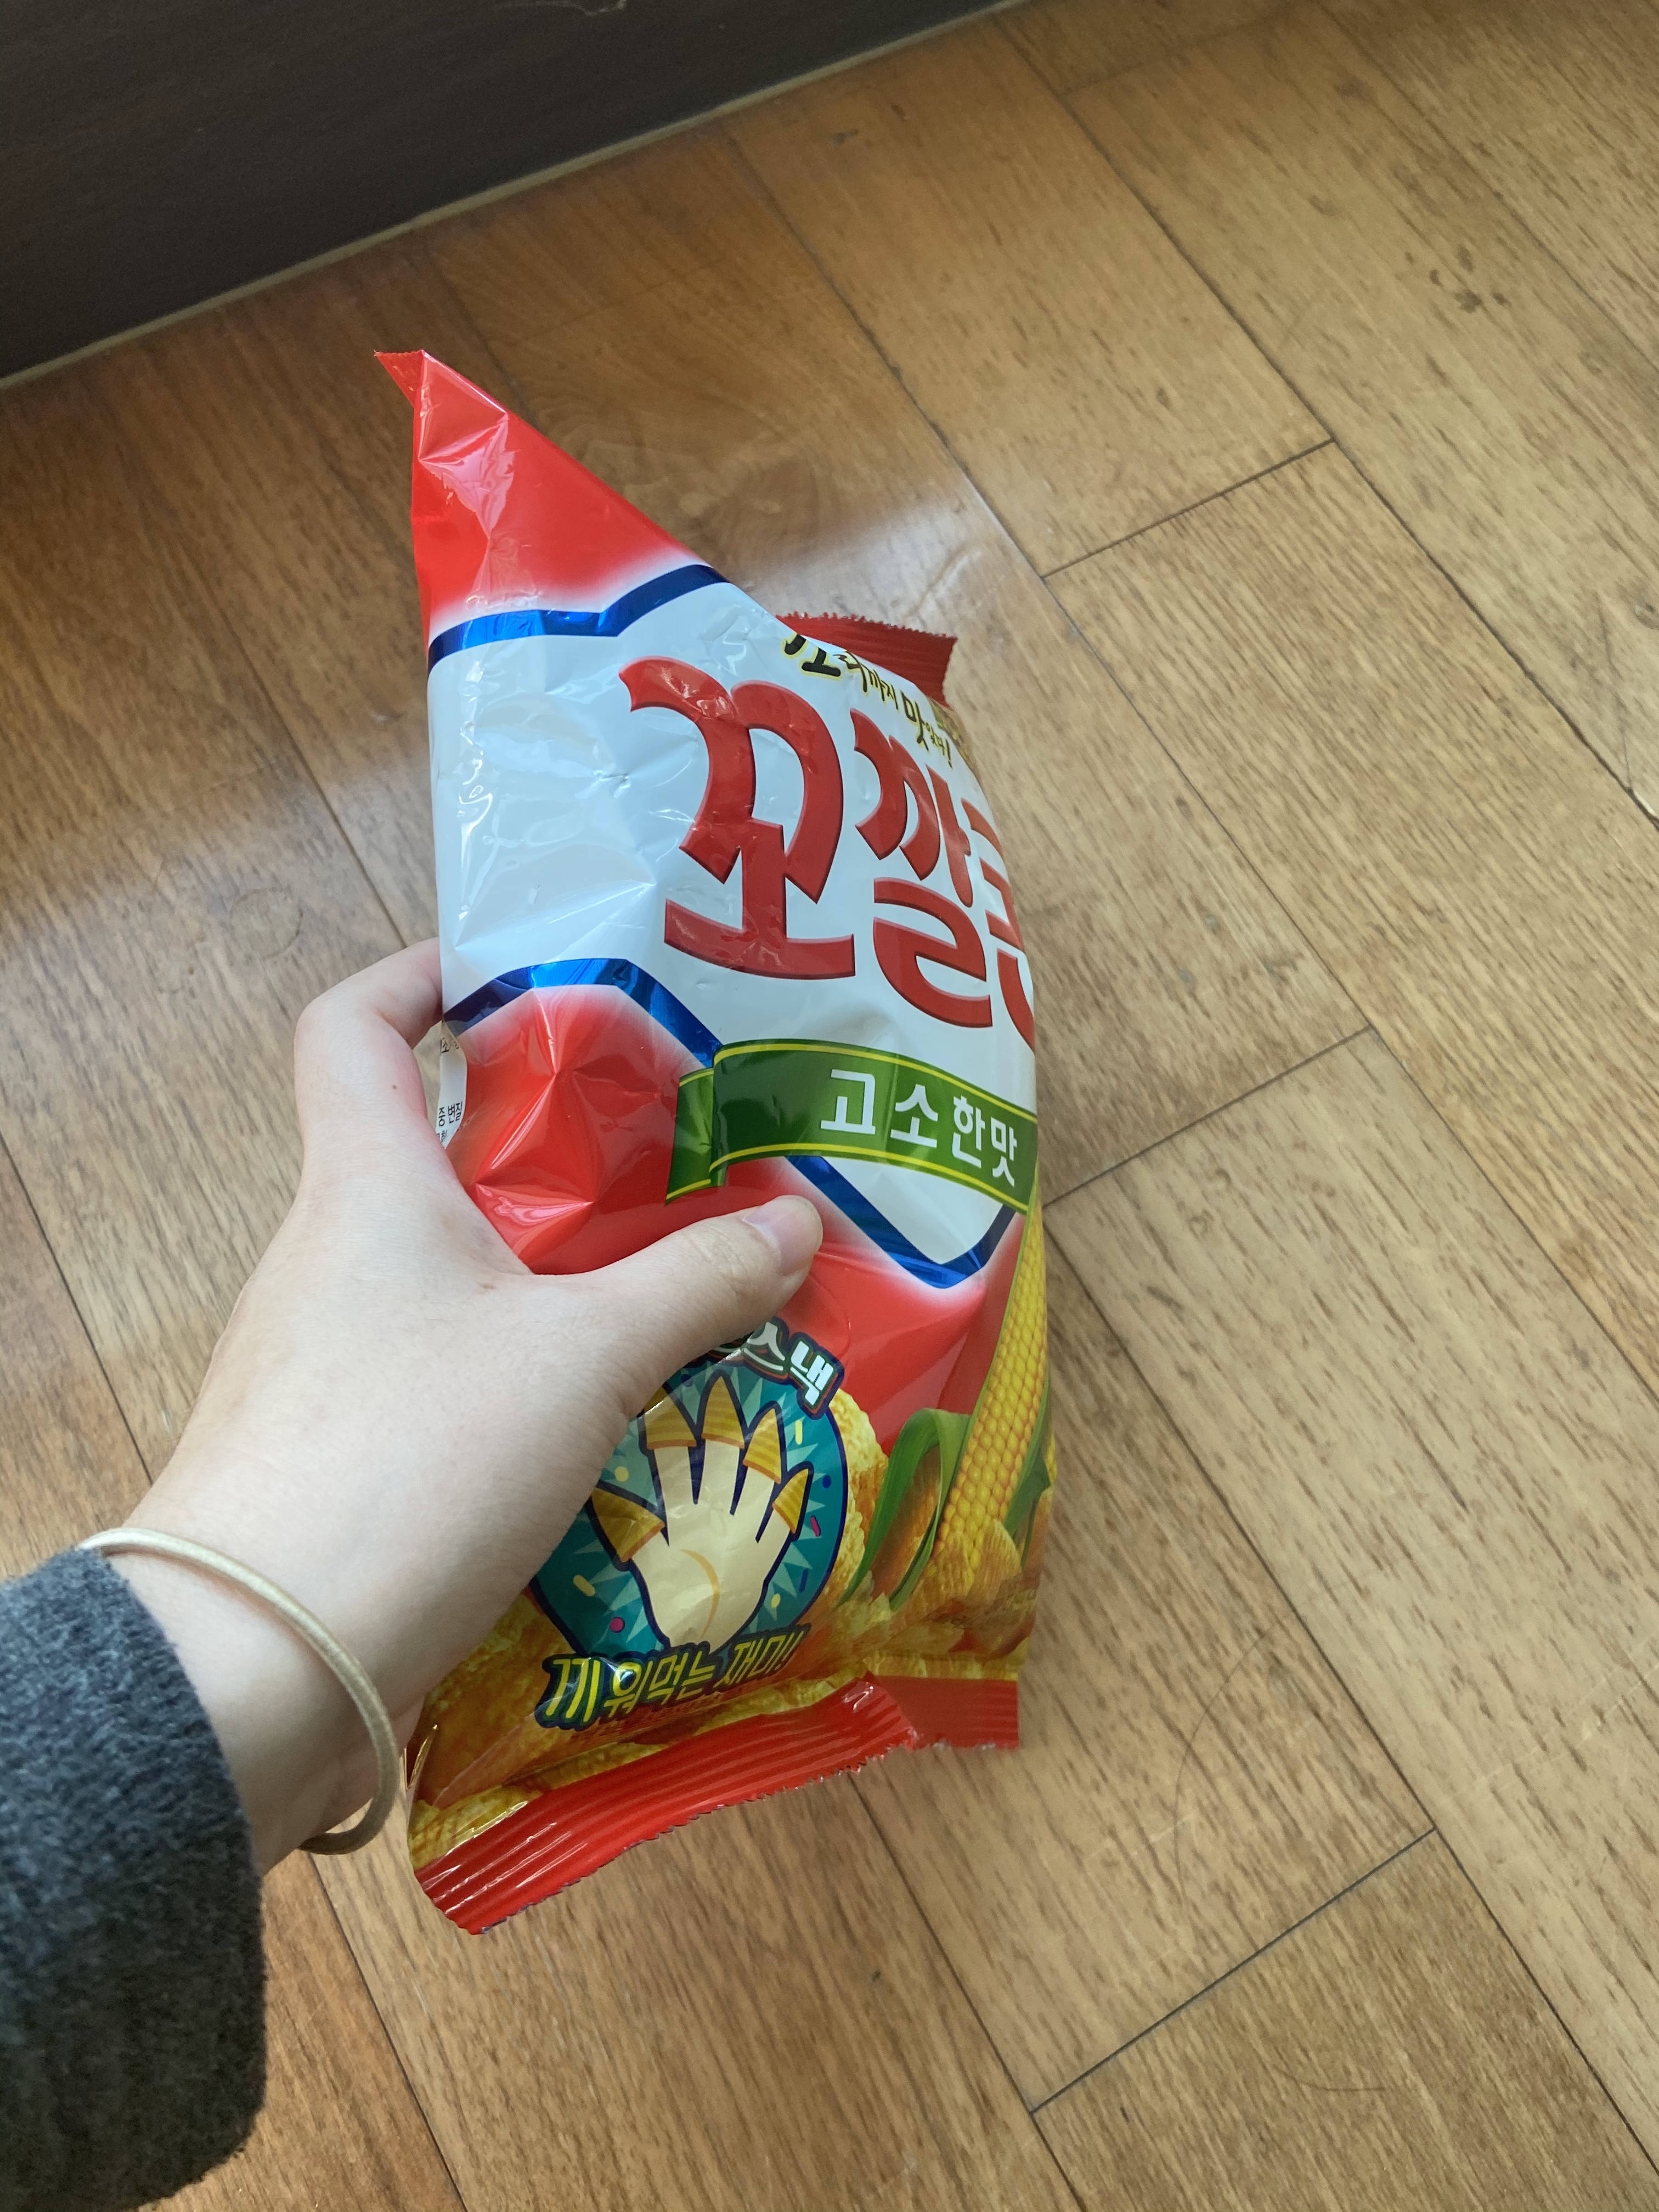ggoggalcon: (342, 329, 1087, 1958)
